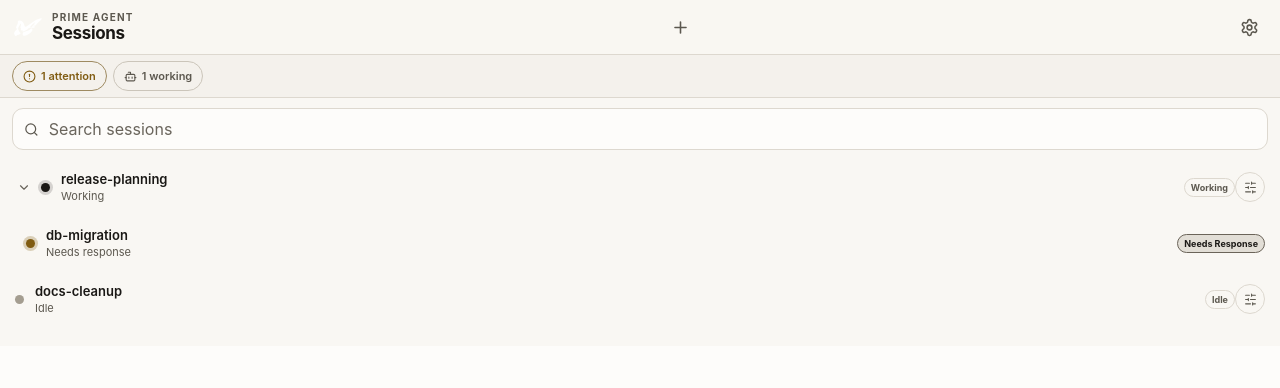
it: AgentsPanel › shows a single close affordance in the new-session flow, not two
Click the button named "Start a new session" at point(681, 27), box [660,6,702,48]
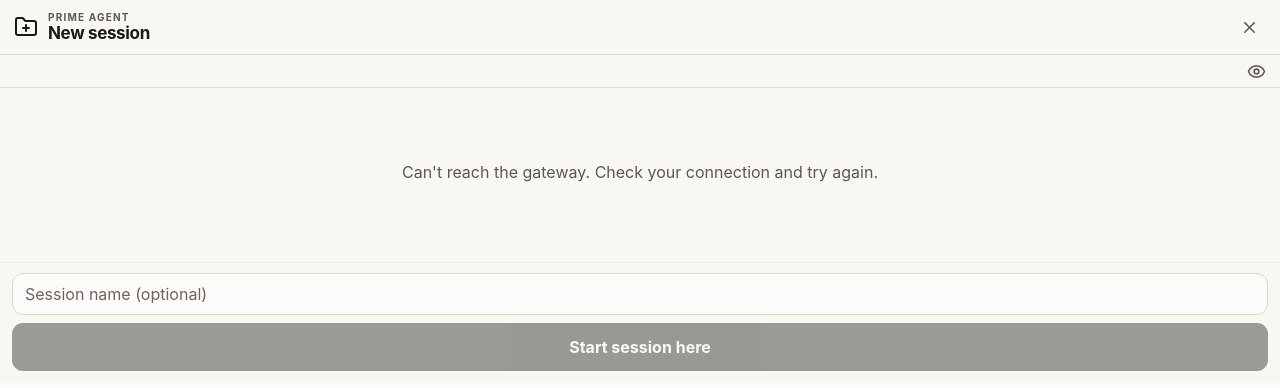
Result: the button named "Close new session" is shown at [1228,6,1270,48]
